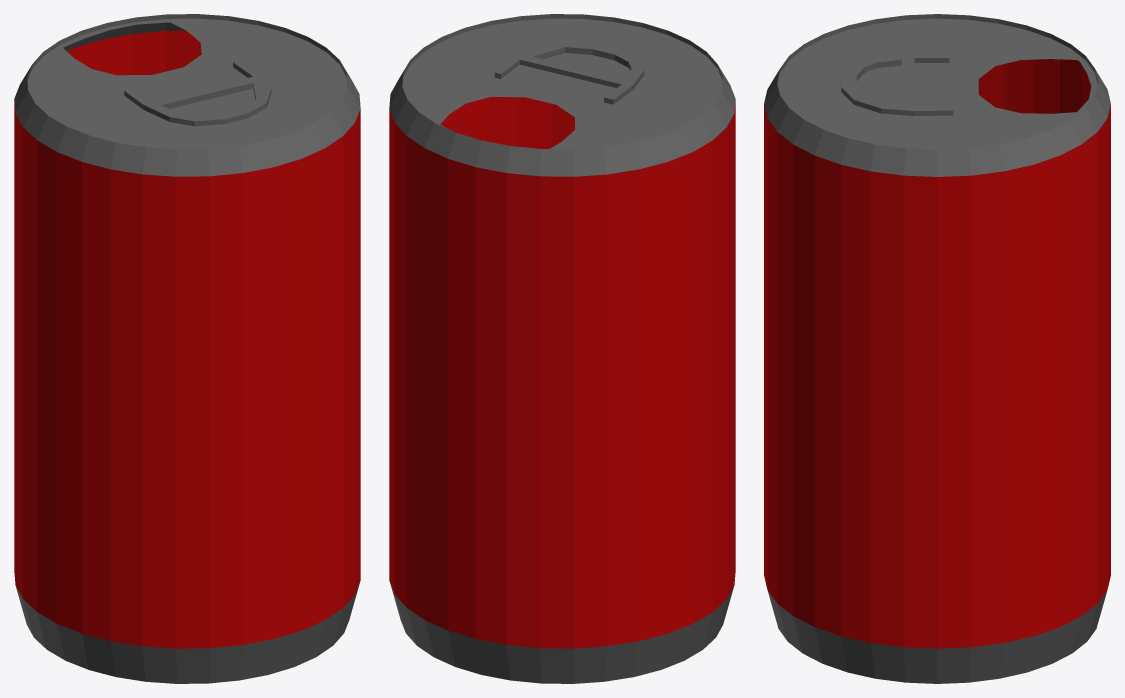
File: lata.dae
3 views of the same model, side by side, from view 1: azimuth 30°, elevation 25°; view 2: azimuth 150°, elevation 25°; view 3: azimuth 270°, elevation 25° (orthographic).
Visible parts, largest first — view 1: Cylinder-001, Cylinder; view 2: Cylinder-001, Cylinder; view 3: Cylinder-001, Cylinder.
Part boxes in pixels (<box>): Cylinder-001: <box>14,30,360,648</box>; Cylinder: <box>14,14,360,683</box>; Cylinder-001: <box>389,97,735,648</box>; Cylinder: <box>389,14,735,683</box>; Cylinder-001: <box>764,59,1110,648</box>; Cylinder: <box>764,14,1110,683</box>.
Bounding box in the file's own units: 0.2 × 0.3397 × 0.2.
